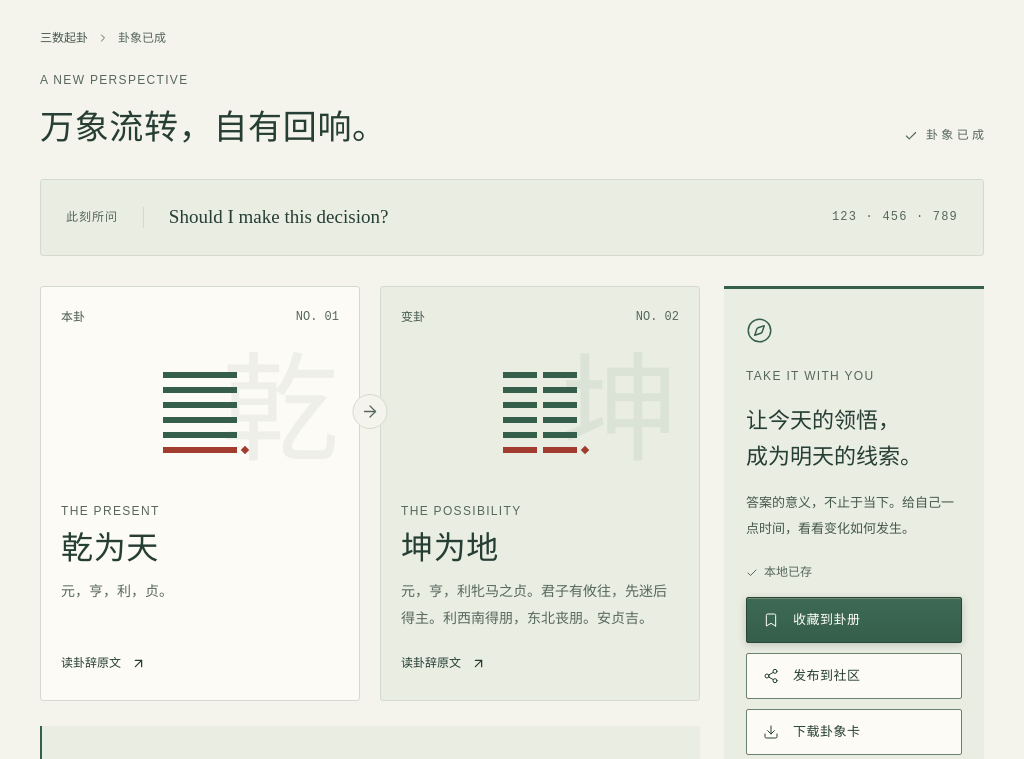
ResultDisplay › downloads the paired hexagram card with the saved interpretation
Click the button "下载卦象卡".
click(854, 732)  # box [746,709,962,755]
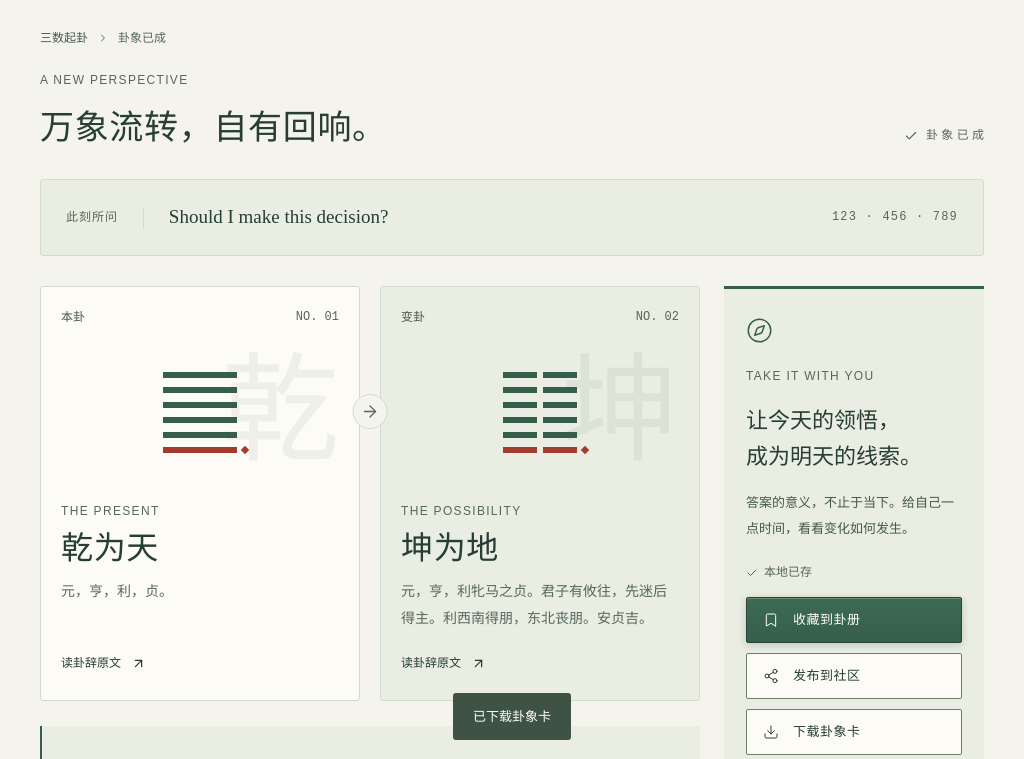
Expected: the text "已下载卦象卡" is shown, [453,693,571,740]
